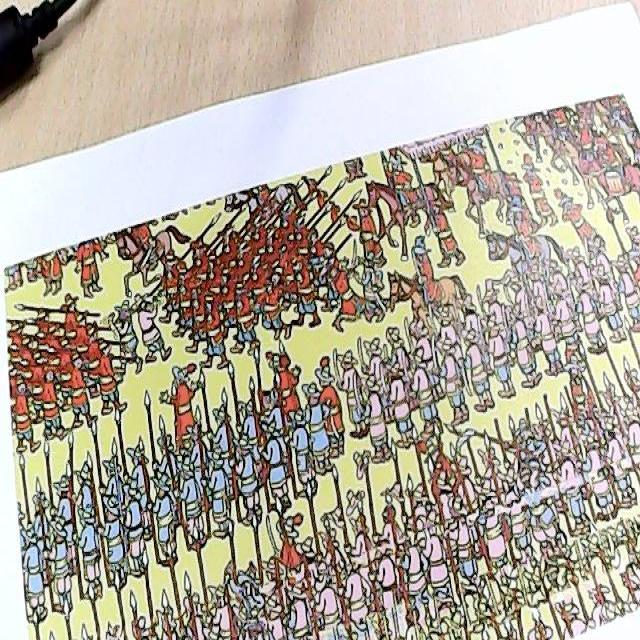waldo: (256, 387, 278, 414)
